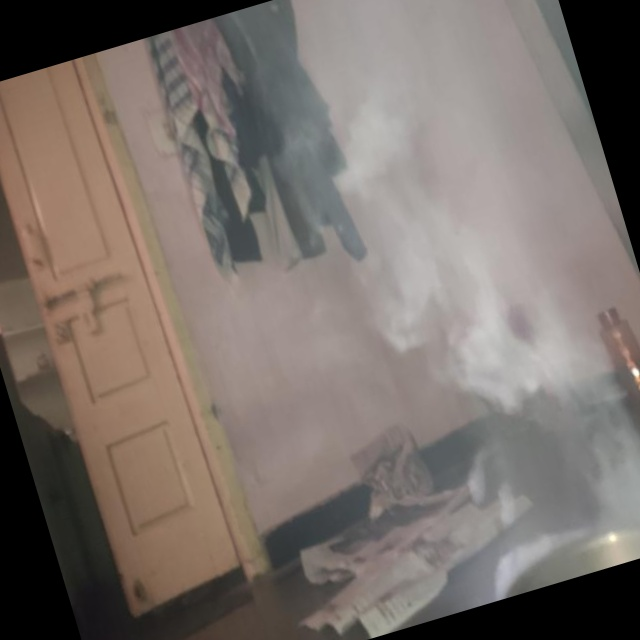smoke: (339, 141, 623, 522)
